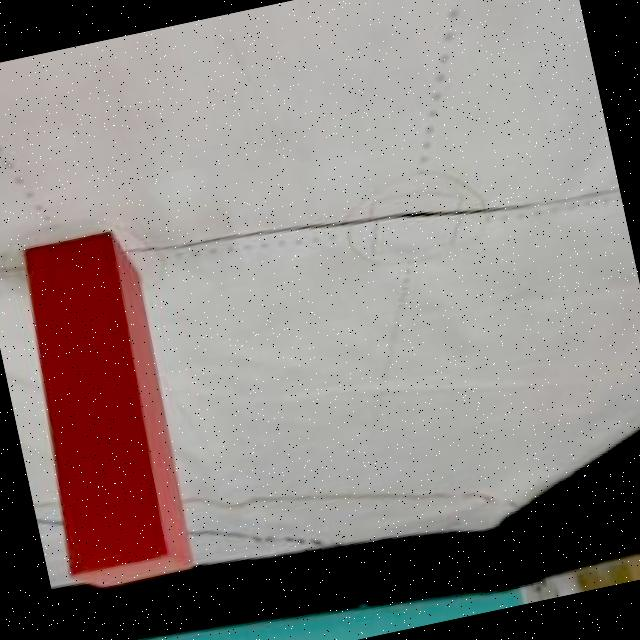redbox: (0, 225, 198, 593)
